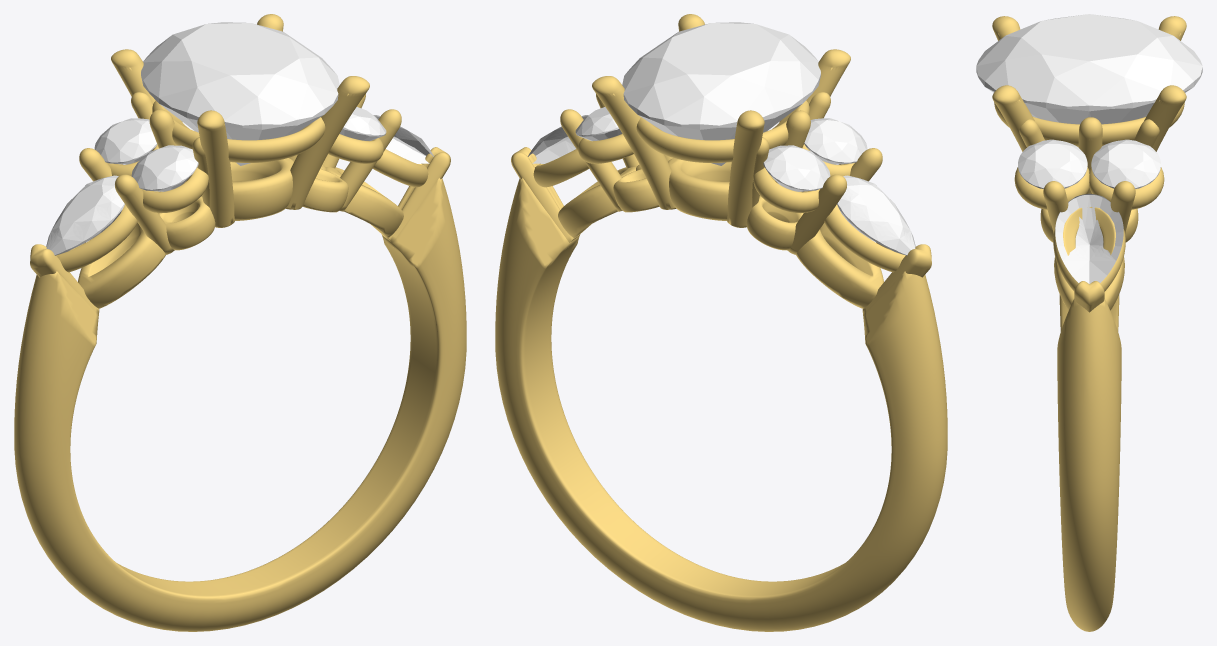
The model's file is RyanMongno3.13_webgi.glb.
The picture shows the model from 3 angles, left to right: view 1: azimuth 30°, elevation 25°; view 2: azimuth 150°, elevation 25°; view 3: azimuth 270°, elevation 25°; orthographic projection.
Parts seen in each view (by area): view 1: 313_ct_PT_for_3d_model, 313_ct_sapph_for_3d_model, 266_ct_dia_for_3d_model001, 266_ct_dia_for_3d_model005, 266_ct_dia_for_3d_model004, 266_ct_dia_for_3d_model, 266_ct_dia_for_3d_model002; view 2: 313_ct_PT_for_3d_model, 313_ct_sapph_for_3d_model, 266_ct_dia_for_3d_model001, 266_ct_dia_for_3d_model004, 266_ct_dia_for_3d_model005, 266_ct_dia_for_3d_model002, 266_ct_dia_for_3d_model003; view 3: 313_ct_PT_for_3d_model, 313_ct_sapph_for_3d_model, 266_ct_dia_for_3d_model002, 266_ct_dia_for_3d_model, 266_ct_dia_for_3d_model003.
Part boxes in pixels (box(x1,y1,x2,y2)): 313_ct_PT_for_3d_model: box(14, 14, 466, 631); 313_ct_sapph_for_3d_model: box(141, 22, 339, 165); 266_ct_dia_for_3d_model001: box(46, 175, 124, 255); 266_ct_dia_for_3d_model005: box(131, 145, 198, 191); 266_ct_dia_for_3d_model004: box(94, 118, 157, 164); 266_ct_dia_for_3d_model: box(339, 107, 386, 141); 266_ct_dia_for_3d_model002: box(373, 115, 433, 163); 313_ct_PT_for_3d_model: box(495, 14, 947, 631); 313_ct_sapph_for_3d_model: box(622, 22, 820, 165); 266_ct_dia_for_3d_model001: box(837, 175, 915, 255); 266_ct_dia_for_3d_model004: box(763, 145, 830, 191); 266_ct_dia_for_3d_model005: box(804, 118, 867, 164); 266_ct_dia_for_3d_model002: box(528, 115, 588, 163); 266_ct_dia_for_3d_model003: box(575, 107, 622, 141); 313_ct_PT_for_3d_model: box(992, 16, 1186, 631); 313_ct_sapph_for_3d_model: box(976, 14, 1202, 147); 266_ct_dia_for_3d_model002: box(1055, 193, 1123, 283); 266_ct_dia_for_3d_model: box(1018, 139, 1087, 188); 266_ct_dia_for_3d_model003: box(1091, 139, 1160, 188).
Bounding box in the file's own units: 2.43 × 2.99 × 1.08.
